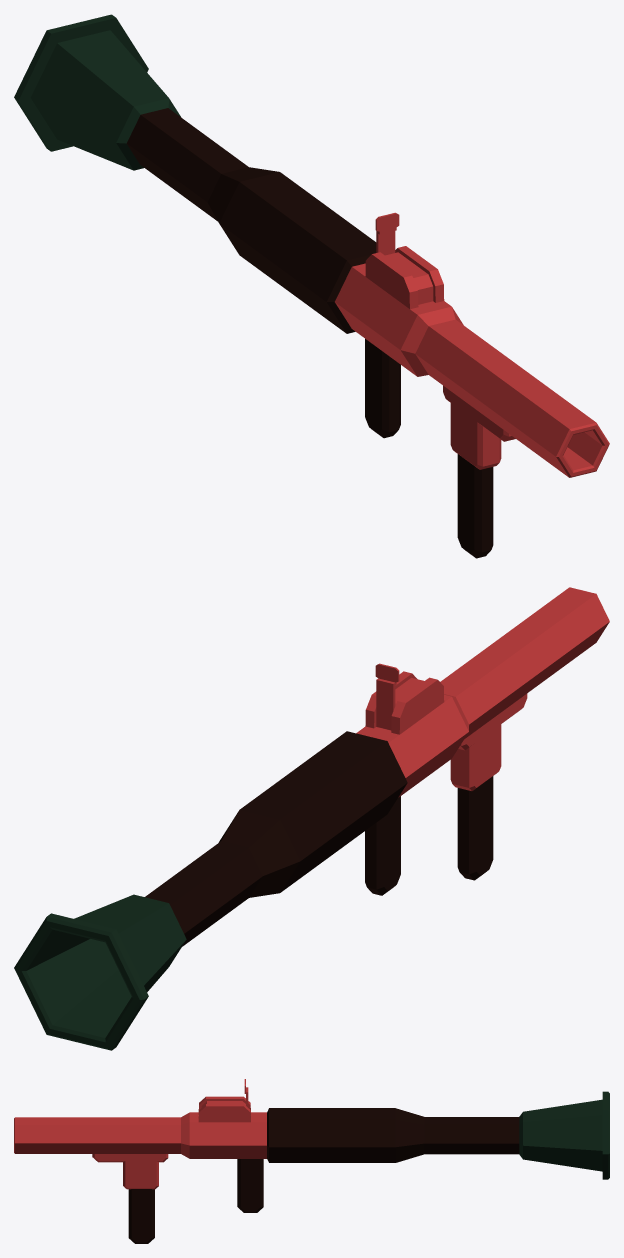
Rendered from RPG_Barrel.fbx.
3 views of the same model, one above another, from view 1: azimuth 30°, elevation 25°; view 2: azimuth 150°, elevation 25°; view 3: azimuth 270°, elevation 25° (orthographic). The views are drawn at different scales.
Parts seen in each view (by area): view 1: RPG; view 2: RPG; view 3: RPG.
Boxes of the visible parts, <box> form: RPG: <box>14,14,609,558</box>; RPG: <box>14,587,609,1050</box>; RPG: <box>14,1079,609,1243</box>.
Size of the model in its own units: 0.1434 by 0.2879 by 0.9655.
